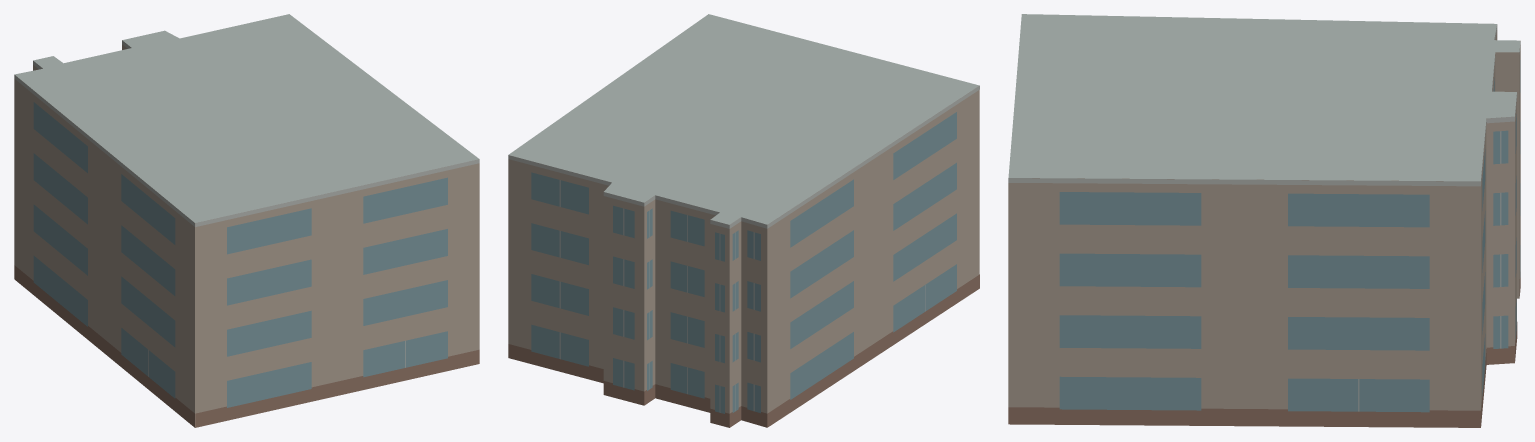
The model's file is survey-upis-32488342.glb.
The picture shows the model from 3 angles, left to right: view 1: azimuth 30°, elevation 25°; view 2: azimuth 150°, elevation 25°; view 3: azimuth 270°, elevation 25°; orthographic projection. The views are drawn at different scales.
Visible parts, largest first — view 1: survey-upis-32488342.tmp; view 2: survey-upis-32488342.tmp; view 3: survey-upis-32488342.tmp.
Part boxes in pixels (x1,y1,x2,y2): survey-upis-32488342.tmp: [14, 14, 479, 427]; survey-upis-32488342.tmp: [508, 14, 979, 427]; survey-upis-32488342.tmp: [1008, 14, 1520, 427].
Bounding box in the file's own units: 17.78 × 12.2 × 22.98.
